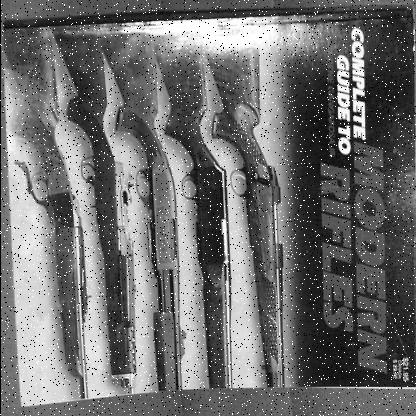rifle: (190, 37, 302, 387), (0, 11, 93, 407), (100, 25, 189, 396), (171, 31, 233, 391), (86, 25, 141, 403)
